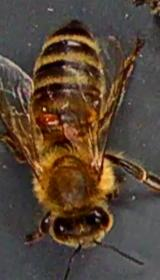varroa_mite: (41, 110, 69, 125)
